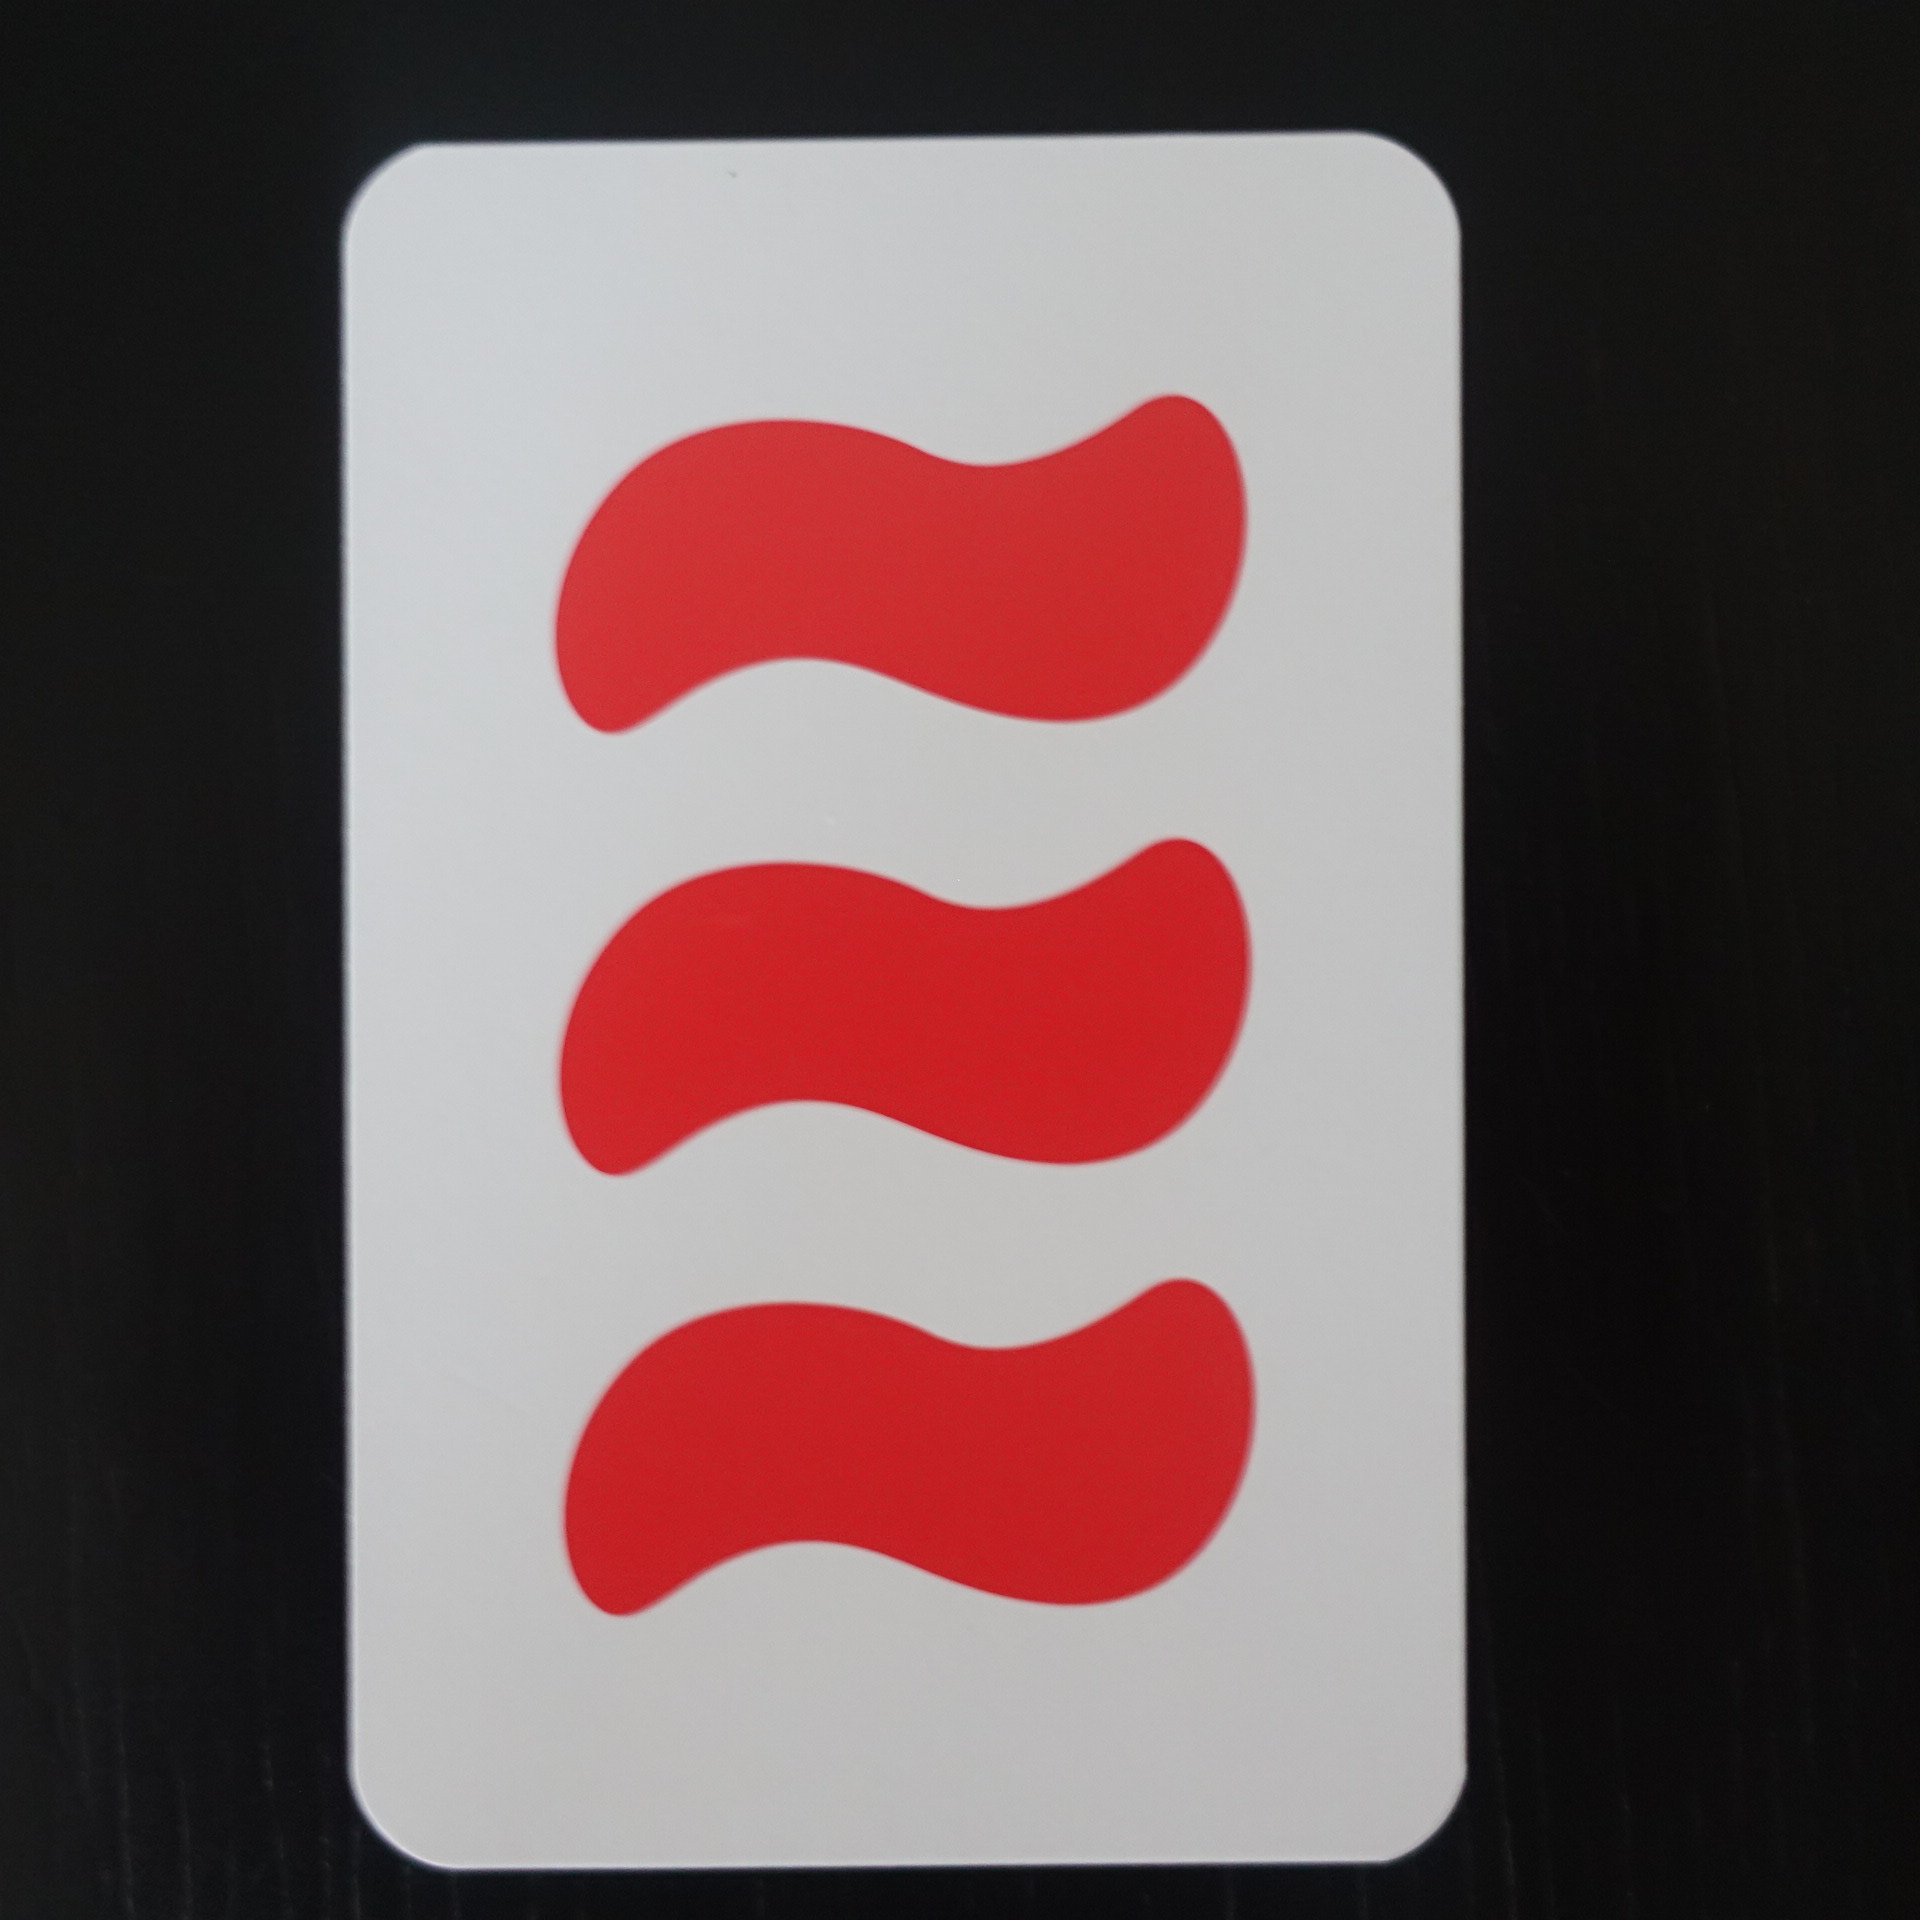c-2-f-d-r: (308, 100, 1512, 1892)
